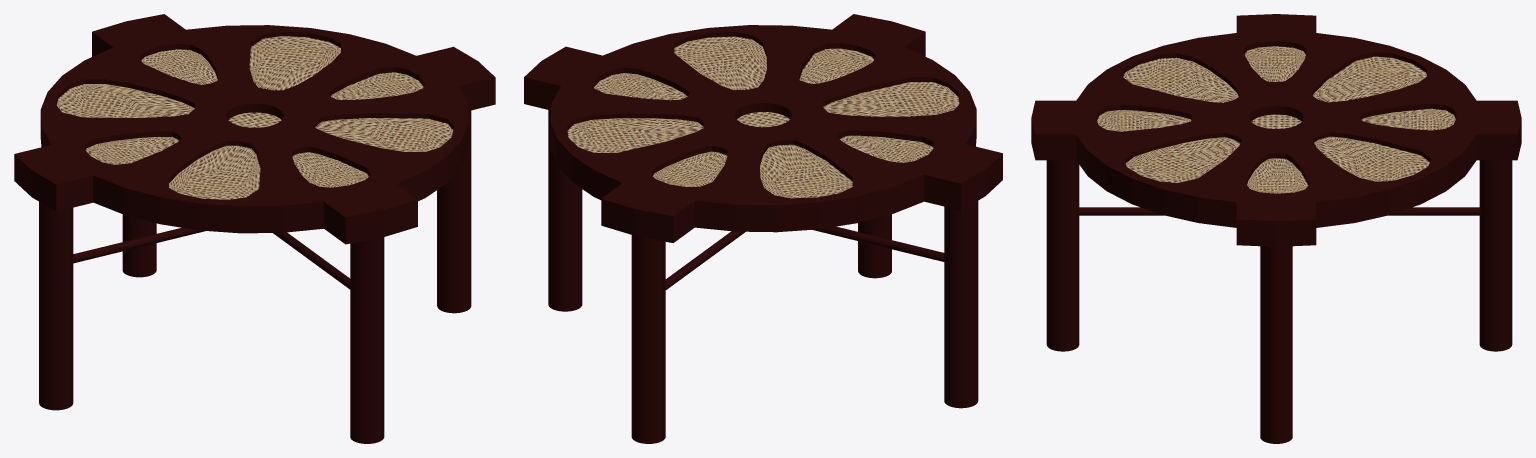
The model's file is Mesa-animada-3d.glb.
3 views of the same model, side by side, from view 1: azimuth 30°, elevation 25°; view 2: azimuth 150°, elevation 25°; view 3: azimuth 270°, elevation 25° (orthographic). The views are drawn at different scales.
Parts seen in each view (by area): view 1: Cylinder, Cylinder.003, Cylinder.005, Cylinder.004, Plane.009, Plane.020, Plane.018, Plane.022, Plane.019, Plane.023, Cylinder.002, Plane.021 (+4 smaller); view 2: Cylinder, Cylinder.002, Cylinder.005, Cylinder.004, Plane.022, Plane.018, Plane.020, Plane.009, Plane.019, Plane.023, Cylinder.003, Plane.021 (+4 smaller); view 3: Cylinder, Cylinder.004, Cylinder.002, Cylinder.003, Plane.018, Plane.009, Plane.022, Plane.020, Plane.021, Plane.017, Plane.019, Plane.023 (+2 smaller).
Boxes of the visible parts, box(x1,y1,x2,y2) form: Cylinder: box(14, 14, 495, 244); Cylinder.003: box(350, 237, 384, 443); Cylinder.005: box(39, 202, 73, 410); Cylinder.004: box(437, 110, 471, 313); Plane.009: box(249, 36, 340, 90); Plane.020: box(169, 145, 260, 199); Plane.018: box(315, 118, 453, 151); Plane.022: box(56, 84, 194, 117); Plane.019: box(292, 152, 368, 187); Plane.023: box(141, 49, 217, 84); Cylinder.002: box(122, 214, 156, 277); Plane.021: box(86, 136, 178, 164); Cylinder: box(524, 14, 1002, 243); Cylinder.002: box(631, 235, 665, 443); Cylinder.005: box(944, 201, 978, 408); Cylinder.004: box(548, 110, 582, 311); Plane.022: box(760, 144, 852, 198); Plane.018: box(674, 36, 766, 90); Plane.020: box(823, 82, 959, 116); Plane.009: box(567, 118, 703, 152); Plane.019: box(799, 48, 873, 83); Plane.023: box(653, 151, 727, 186); Cylinder.003: box(858, 214, 891, 278); Plane.021: box(839, 135, 933, 162); Cylinder: box(1031, 14, 1521, 246); Cylinder.004: box(1260, 246, 1292, 443); Cylinder.002: box(1479, 160, 1512, 351); Cylinder.003: box(1046, 160, 1079, 351); Plane.018: box(1125, 137, 1240, 182); Plane.009: box(1314, 136, 1429, 181); Plane.022: box(1312, 56, 1426, 102); Plane.020: box(1123, 57, 1238, 102); Plane.021: box(1244, 46, 1305, 81); Plane.017: box(1247, 158, 1308, 193); Plane.019: box(1097, 110, 1191, 131); Plane.023: box(1361, 108, 1455, 130).
Size of the model in its own units: 2.4 by 1.23 by 2.4.
16 materials, 9 textured.
